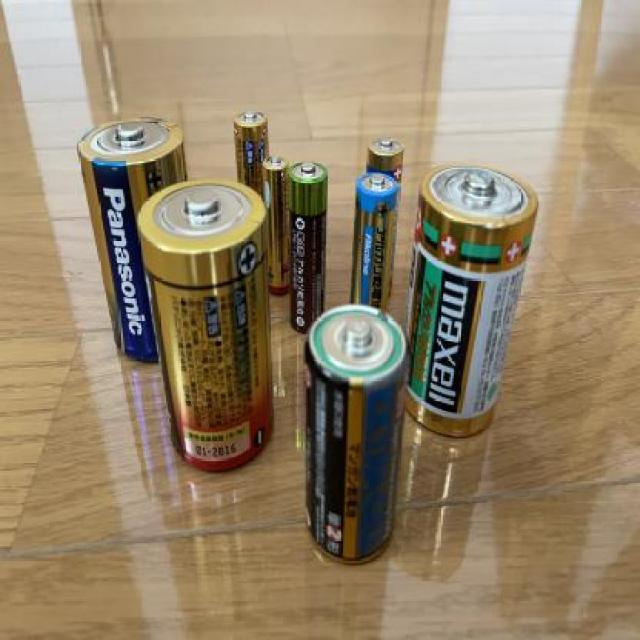hazardous waste: (136, 178, 282, 472), (397, 167, 540, 436), (301, 303, 414, 568), (76, 114, 192, 366), (286, 158, 336, 337), (357, 130, 405, 304), (349, 172, 398, 323), (260, 154, 298, 296), (231, 108, 274, 204)
